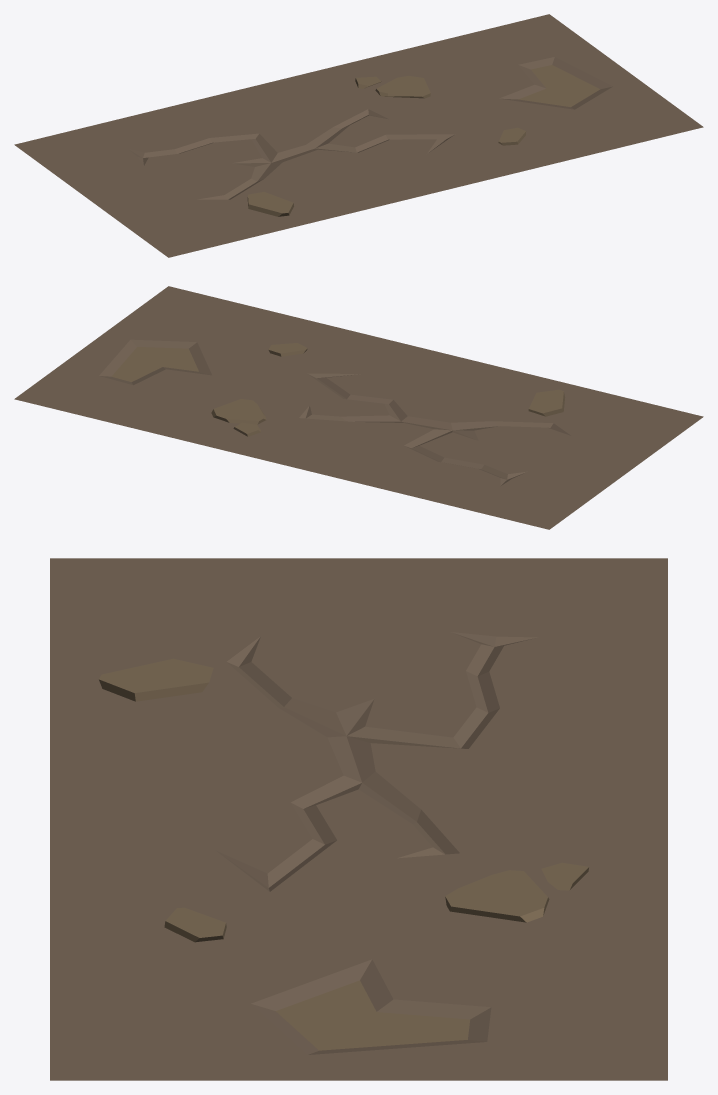
Rendered from LP_PostApoc_RoadLarge.fbx.
3 views of the same model, one above another, from view 1: azimuth 30°, elevation 25°; view 2: azimuth 150°, elevation 25°; view 3: azimuth 270°, elevation 25° (orthographic). The views are drawn at different scales.
Visible parts, largest first — view 1: RoadLarge; view 2: RoadLarge; view 3: RoadLarge.
Part boxes in pixels (x1,y1,x2,y2): RoadLarge: [14, 14, 703, 257]; RoadLarge: [14, 286, 703, 529]; RoadLarge: [50, 558, 667, 1080].
Size of the model in its own units: 1600 by 18.58 by 800.
